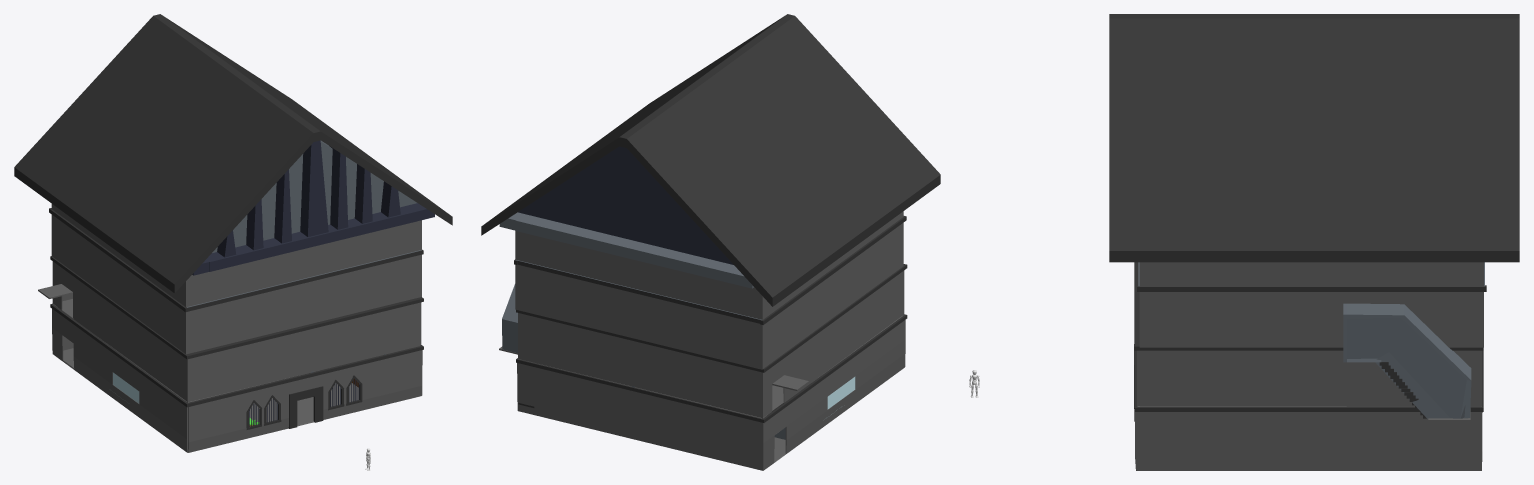
The model's file is Prison.fbx.
3 views of the same model, side by side, from view 1: azimuth 30°, elevation 25°; view 2: azimuth 150°, elevation 25°; view 3: azimuth 270°, elevation 25° (orthographic). The views are drawn at different scales.
Visible parts, largest first — view 1: Cube.158, Plane.138, Plane.077, Plane.148, Cube.160, Cube.161, Cube.130, Cube.002, Cube.131, Cube, Cube.134; view 2: Cube.158, Plane.138, Plane.148, Plane.077, Cube.160, Cube.161, Cube.002, Cube.130, Cube.132, Cube.134, Cube.135; view 3: Cube.158, Plane.138, Plane.148, Plane.077, Cube.135, Cube.002, Cube.133, Cube.130.
Boxes of the visible parts, x1,y1,x2,y2 form: Cube.158: [14, 14, 452, 293]; Plane.138: [51, 204, 421, 354]; Plane.077: [38, 261, 421, 402]; Plane.148: [52, 309, 422, 452]; Cube.160: [192, 140, 434, 275]; Cube.161: [212, 140, 416, 252]; Cube.130: [50, 256, 423, 359]; Cube.002: [50, 303, 423, 407]; Cube.131: [185, 250, 422, 311]; Cube: [288, 386, 323, 428]; Cube.134: [49, 208, 188, 312]; Cube.158: [481, 14, 940, 306]; Plane.138: [515, 211, 903, 369]; Plane.148: [517, 320, 905, 470]; Plane.077: [499, 270, 904, 418]; Cube.160: [518, 146, 733, 264]; Cube.161: [499, 212, 753, 288]; Cube.002: [516, 314, 907, 422]; Cube.130: [516, 264, 907, 372]; Cube.132: [517, 260, 764, 323]; Cube.134: [760, 216, 906, 324]; Cube.135: [502, 284, 517, 353]; Cube.158: [1109, 14, 1519, 262]; Plane.138: [1139, 262, 1483, 347]; Plane.148: [1135, 412, 1482, 470]; Plane.077: [1137, 350, 1481, 421]; Cube.135: [1343, 303, 1471, 419]; Cube.002: [1134, 350, 1483, 411]; Cube.133: [1137, 285, 1486, 291]; Cube.130: [1134, 262, 1483, 350].
Bounding box in the file's own units: 3067 × 3132 × 4078.
